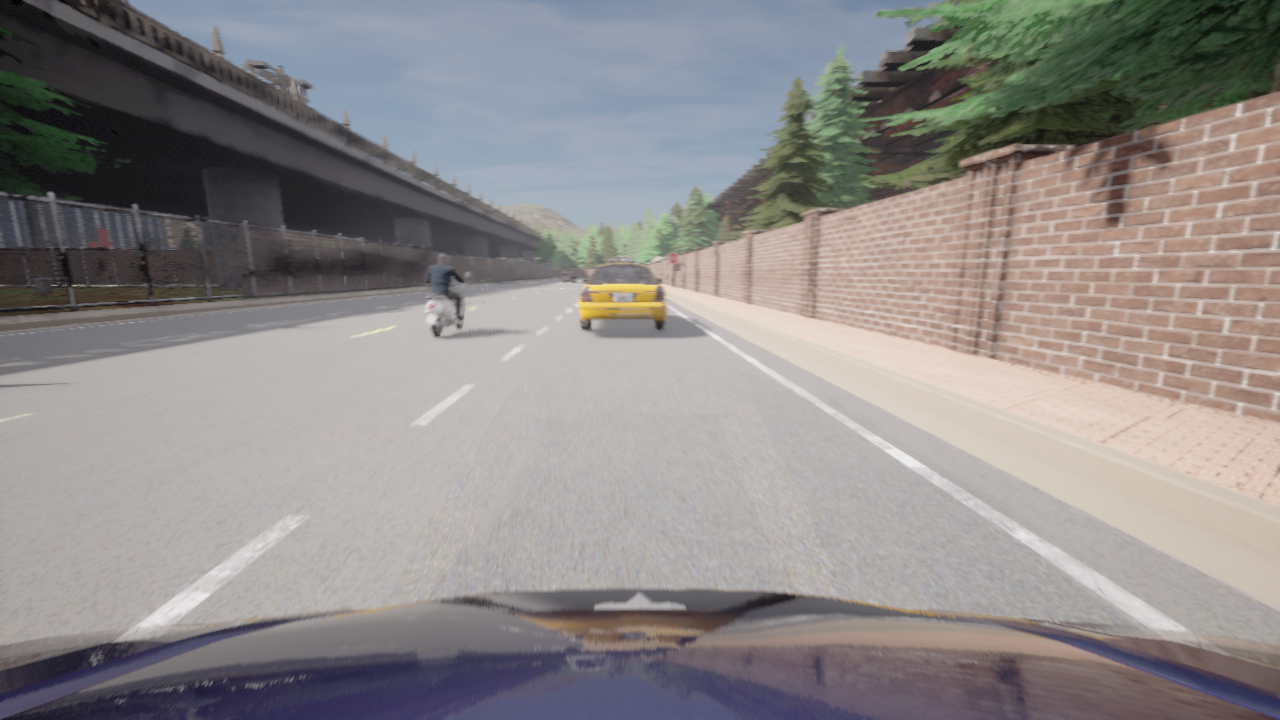cyclist: (0, 588, 1279, 719), (579, 257, 666, 330), (424, 272, 469, 337), (561, 271, 575, 282), (609, 259, 610, 262)
